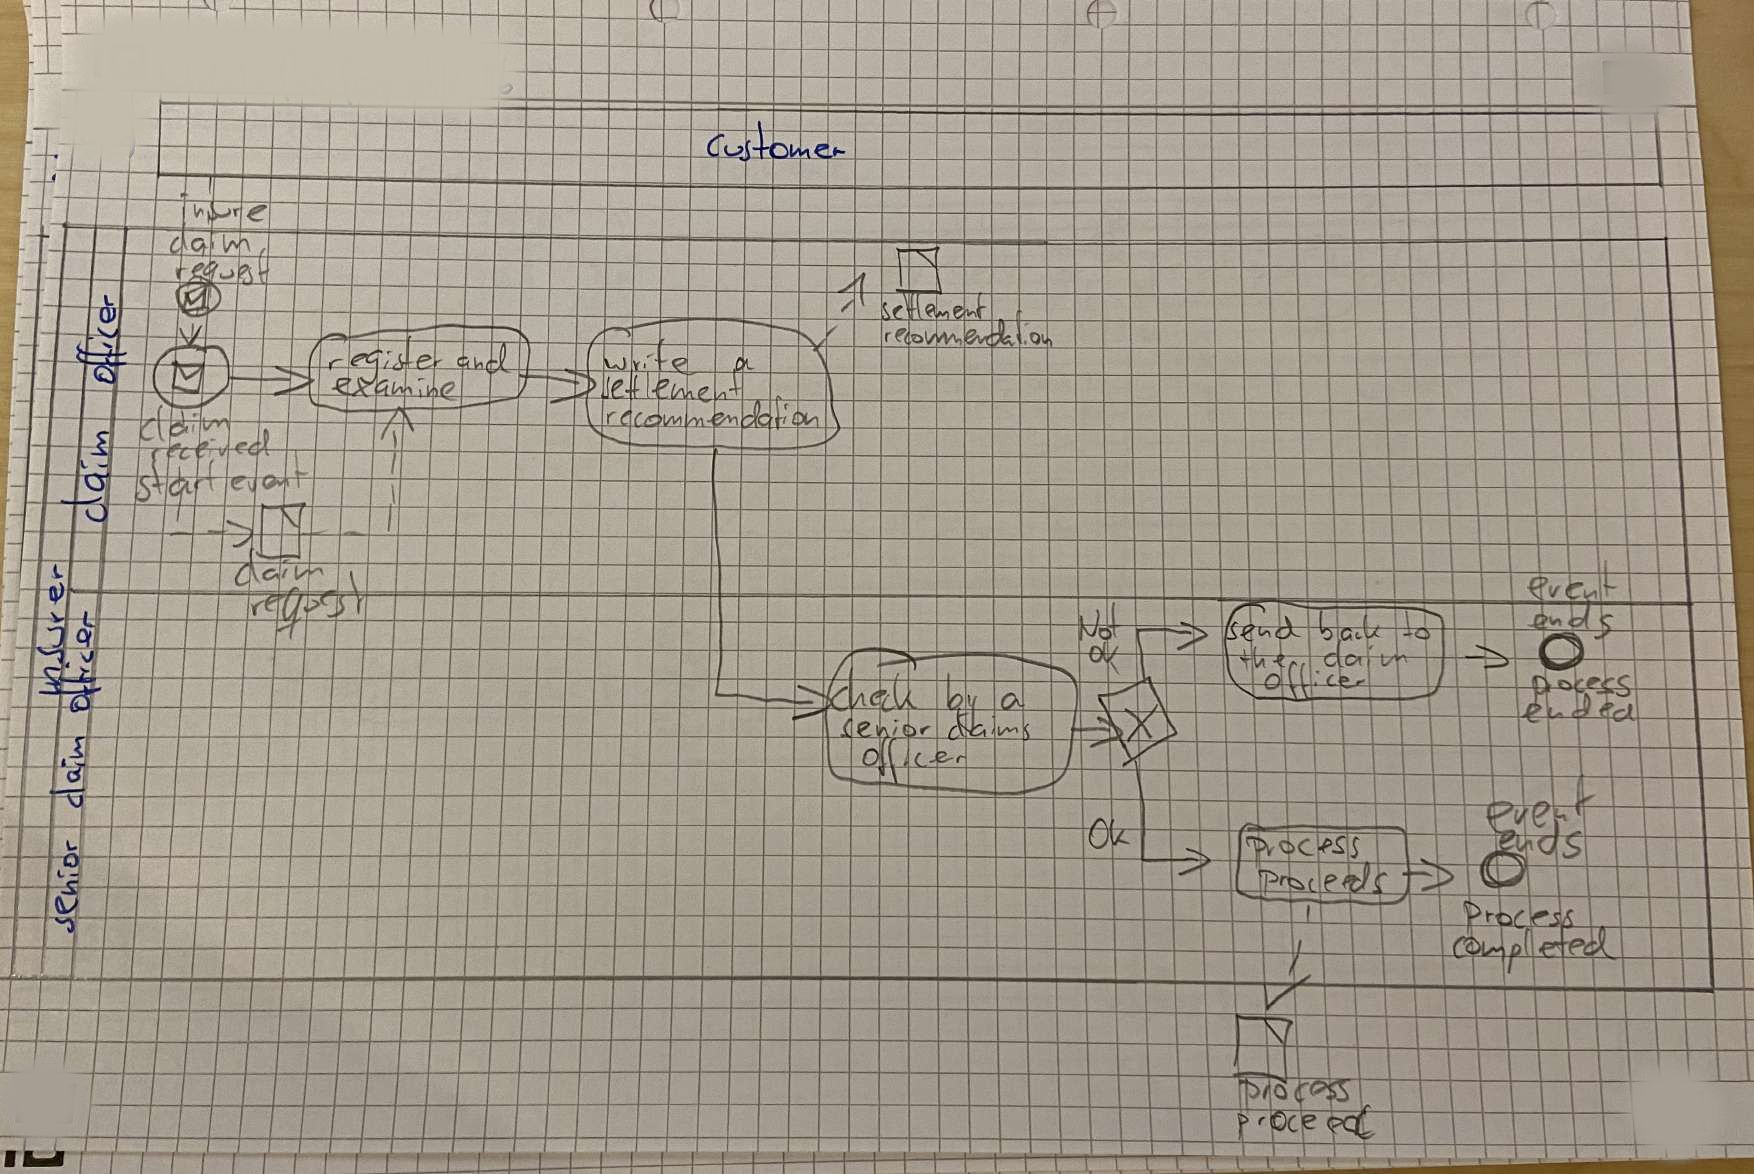Insurer: (26, 556, 72, 704)
Not: (1068, 597, 1128, 649)
Ok: (1079, 812, 1136, 856)
a: (992, 684, 1030, 718), (727, 352, 758, 377)
and: (449, 338, 515, 380)
back: (1313, 607, 1387, 647)
by: (935, 666, 982, 736)
check: (820, 660, 927, 718)
claim: (50, 425, 119, 529), (227, 540, 330, 594), (128, 398, 238, 448), (41, 729, 94, 814), (166, 227, 255, 258)
claims: (941, 701, 1036, 747)
completed: (1442, 918, 1622, 981)
customer: (698, 119, 851, 166)
ended: (1510, 691, 1639, 726)
ends: (1517, 594, 1619, 647), (1489, 812, 1590, 863)
event: (1478, 767, 1603, 843), (1518, 556, 1622, 609), (221, 445, 316, 497)
examine: (324, 372, 462, 406)
insure: (176, 193, 276, 224)
officer: (851, 729, 975, 791), (67, 288, 135, 390), (48, 604, 106, 721)
ok: (1081, 637, 1124, 681)
proceed: (1226, 1097, 1379, 1146)
proceeds: (1248, 856, 1394, 901)
process: (1238, 829, 1366, 877), (1230, 1072, 1357, 1118), (1455, 895, 1581, 941), (1523, 672, 1636, 700)
received: (143, 422, 275, 469)
recommendation: (599, 390, 824, 435), (874, 307, 1058, 354)
register: (321, 329, 451, 390)
request: (242, 566, 372, 647), (176, 249, 272, 286)
send: (1218, 611, 1307, 647)
senior: (43, 833, 86, 939), (832, 710, 937, 744)
settlement: (593, 363, 749, 407), (872, 286, 992, 326)
start: (126, 452, 224, 508)
the: (1233, 639, 1292, 677)
to: (1395, 605, 1438, 647)
write: (595, 331, 703, 381)
